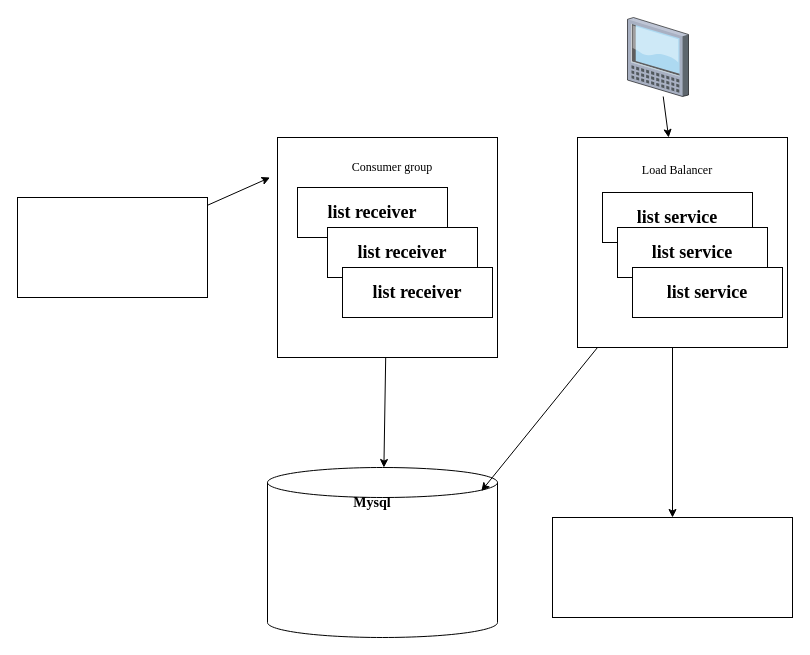
This 810x655 diagram has some shape labels left out. The box of each missing label's shape, as (x1, y1, x2, y2) in pixels:
Data Queue: (552, 516, 792, 618)
List DB: (266, 466, 498, 638)
list queue: (16, 196, 208, 298)
